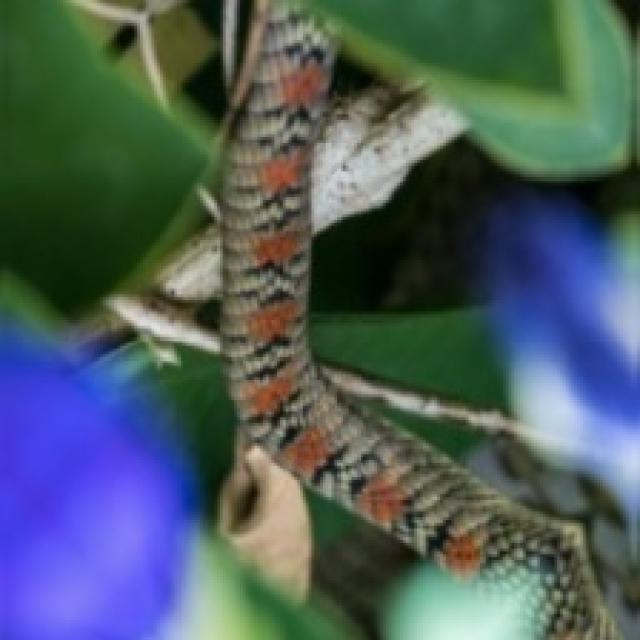paradise tree snake: (220, 0, 629, 637), (220, 0, 637, 514), (480, 180, 637, 514)
